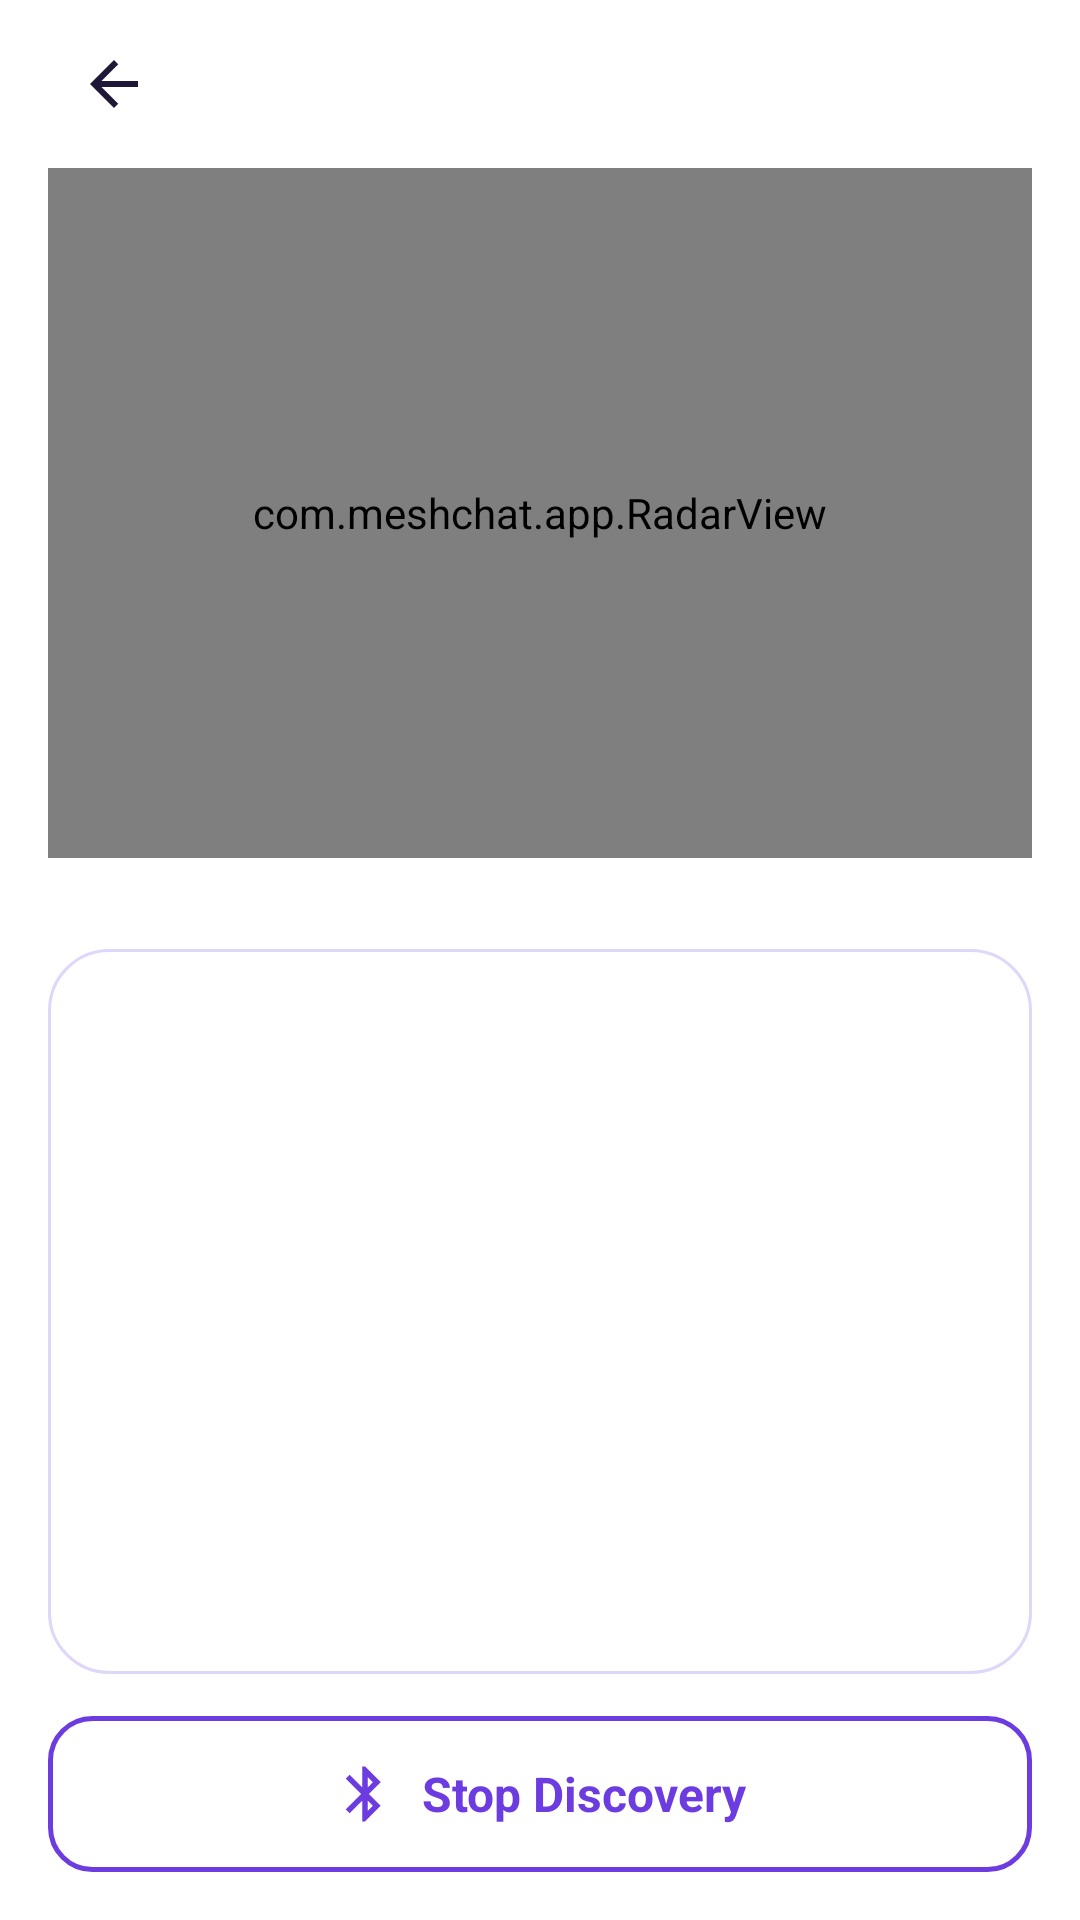

Where icons sit on this 1080 x 1920 app screen, as (left=x1, top=y1, right=x2, bottom=y2):
back: (left=90, top=60, right=138, bottom=108)
